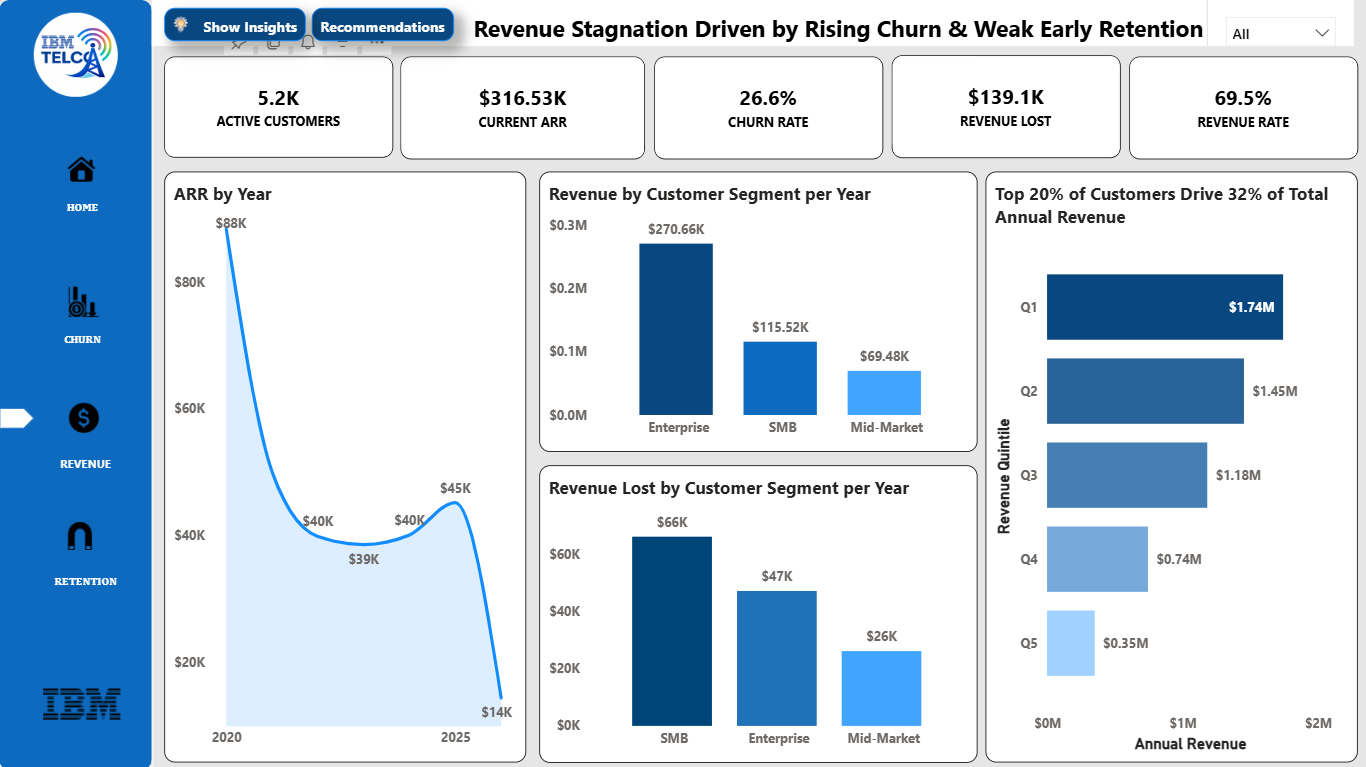

What the dashboard file says about the page in this screenshot:
{"tool":"powerbi","page":{"name":"Revenue at Risk","canvas":[1280,720],"ordinal":2},"visuals":[{"type":"clusteredBarChart","title":"Top 20% of Customers Drive 32% of Total Annual Revenue","fields":{"Y":["Sum(revenue_quintile.total_annual_revenue)"],"Category":["revenue_quintile.Quintile Label"]},"box":[921.5,160.7,347.2,550.9],"z":0},{"type":"clusteredColumnChart","title":"Revenue by Customer Segment per Year","fields":{"Category":["Revenue by customer segmentation.customer_segment"],"Y":["Sum(Revenue by customer segmentation.total_revenue)"]},"box":[504.3,160.7,408.6,261.4],"z":1000},{"type":"lineChart","title":"ARR by Year","fields":{"Category":["ARR.YEAR"],"Y":["Sum(ARR.ARR)"]},"box":[154.6,160.7,337.4,550.9],"z":2000},{"type":"shape","box":[0,0,144.8,720.2],"z":3000},{"type":"actionButton","box":[49.1,127.6,57.7,66.3],"z":4000},{"type":"actionButton","box":[51.5,246.6,57.7,69.9],"z":5000},{"type":"actionButton","box":[51.5,360.7,57.7,61.4],"z":6000},{"type":"textbox","box":[51.5,177.9,55.2,33.1],"z":7000},{"type":"textbox","box":[51.5,301.8,55.2,33.1],"z":8000},{"type":"textbox","box":[42.9,418.4,77.3,30.7],"z":9000},{"type":"actionButton","box":[51.5,476.1,55.2,50.3],"z":10000},{"type":"textbox","box":[42.9,526.4,77.3,39.3],"z":11000},{"type":"image","box":[22.1,618.4,111.7,82.2],"z":12000},{"type":"image","box":[22.1,12.3,100.6,78.5],"z":13000},{"type":"shape","box":[1.2,381.6,33,19.6],"z":14000},{"type":"textbox","box":[143.6,0,984,44],"z":15000},{"type":"cardVisual","fields":{"Data":["CUSTOMERS.KPI Card Display"]},"box":[154.6,54,213.5,94],"z":16000},{"type":"cardVisual","fields":{"Data":["ARR.KPI CARD ARR"]},"box":[375.5,54,228.2,95.7],"z":17000},{"type":"cardVisual","fields":{"Data":["churn per year - churn per year.KPI CR"]},"box":[612,54,213.5,95.7],"z":18000},{"type":"cardVisual","fields":{"Data":["annual churn mrr.kpi churn mrr"]},"box":[834,53,213.5,95.7],"z":19000},{"type":"cardVisual","fields":{"Data":["revenue rate.kpi rr"]},"box":[1055.2,54,213.5,95.7],"z":20000},{"type":"slicer","fields":{"Values":["ARR.YEAR"]},"box":[1128.8,0,136.2,44.2],"z":21000},{"type":"actionButton","title":"recom button","box":[293,8,132.5,31],"z":24000},{"type":"actionButton","title":"Insight button","box":[154.6,8,132,31],"z":27000},{"type":"clusteredColumnChart","title":"Revenue Lost by Customer Segment per Year","fields":{"Category":["customer segment lost.customer_segment"],"Y":["Sum(customer segment lost.revenue_lost)"]},"box":[504.3,434.4,408.6,277.3],"z":28000}]}

Visuals, with their boxes on the page's 1280x720 design canvas (x1, y1, x2, y2). These are canvas units, not pixel positions in the 1366x767 screenshot, which may show the page scaled, cropped or inside an application window:
"Top 20% of Customers Drive 32% of Total Annual Revenue" clusteredBarChart: locate(922, 161, 1269, 712)
"Revenue by Customer Segment per Year" clusteredColumnChart: locate(504, 161, 913, 422)
"ARR by Year" lineChart: locate(155, 161, 492, 712)
shape: locate(0, 0, 145, 720)
actionButton: locate(49, 128, 107, 194)
actionButton: locate(52, 247, 109, 316)
actionButton: locate(52, 361, 109, 422)
textbox: locate(52, 178, 107, 211)
textbox: locate(52, 302, 107, 335)
textbox: locate(43, 418, 120, 449)
actionButton: locate(52, 476, 107, 526)
textbox: locate(43, 526, 120, 566)
image: locate(22, 618, 134, 701)
image: locate(22, 12, 123, 91)
shape: locate(1, 382, 34, 401)
textbox: locate(144, 0, 1128, 44)
cardVisual - CUSTOMERS.KPI Card Display: locate(155, 54, 368, 148)
cardVisual - ARR.KPI CARD ARR: locate(376, 54, 604, 150)
cardVisual - churn per year - churn per year.KPI CR: locate(612, 54, 826, 150)
cardVisual - annual churn mrr.kpi churn mrr: locate(834, 53, 1048, 149)
cardVisual - revenue rate.kpi rr: locate(1055, 54, 1269, 150)
slicer - ARR.YEAR: locate(1129, 0, 1265, 44)
"recom button" actionButton: locate(293, 8, 426, 39)
"Insight button" actionButton: locate(155, 8, 287, 39)
"Revenue Lost by Customer Segment per Year" clusteredColumnChart: locate(504, 434, 913, 712)
